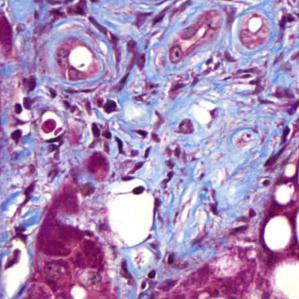steatosis: (263, 217, 295, 250)
